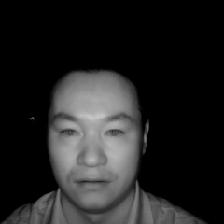normal: (43, 65, 156, 213)
